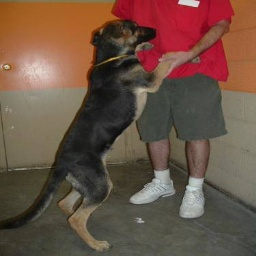dog: (3, 9, 193, 238)
